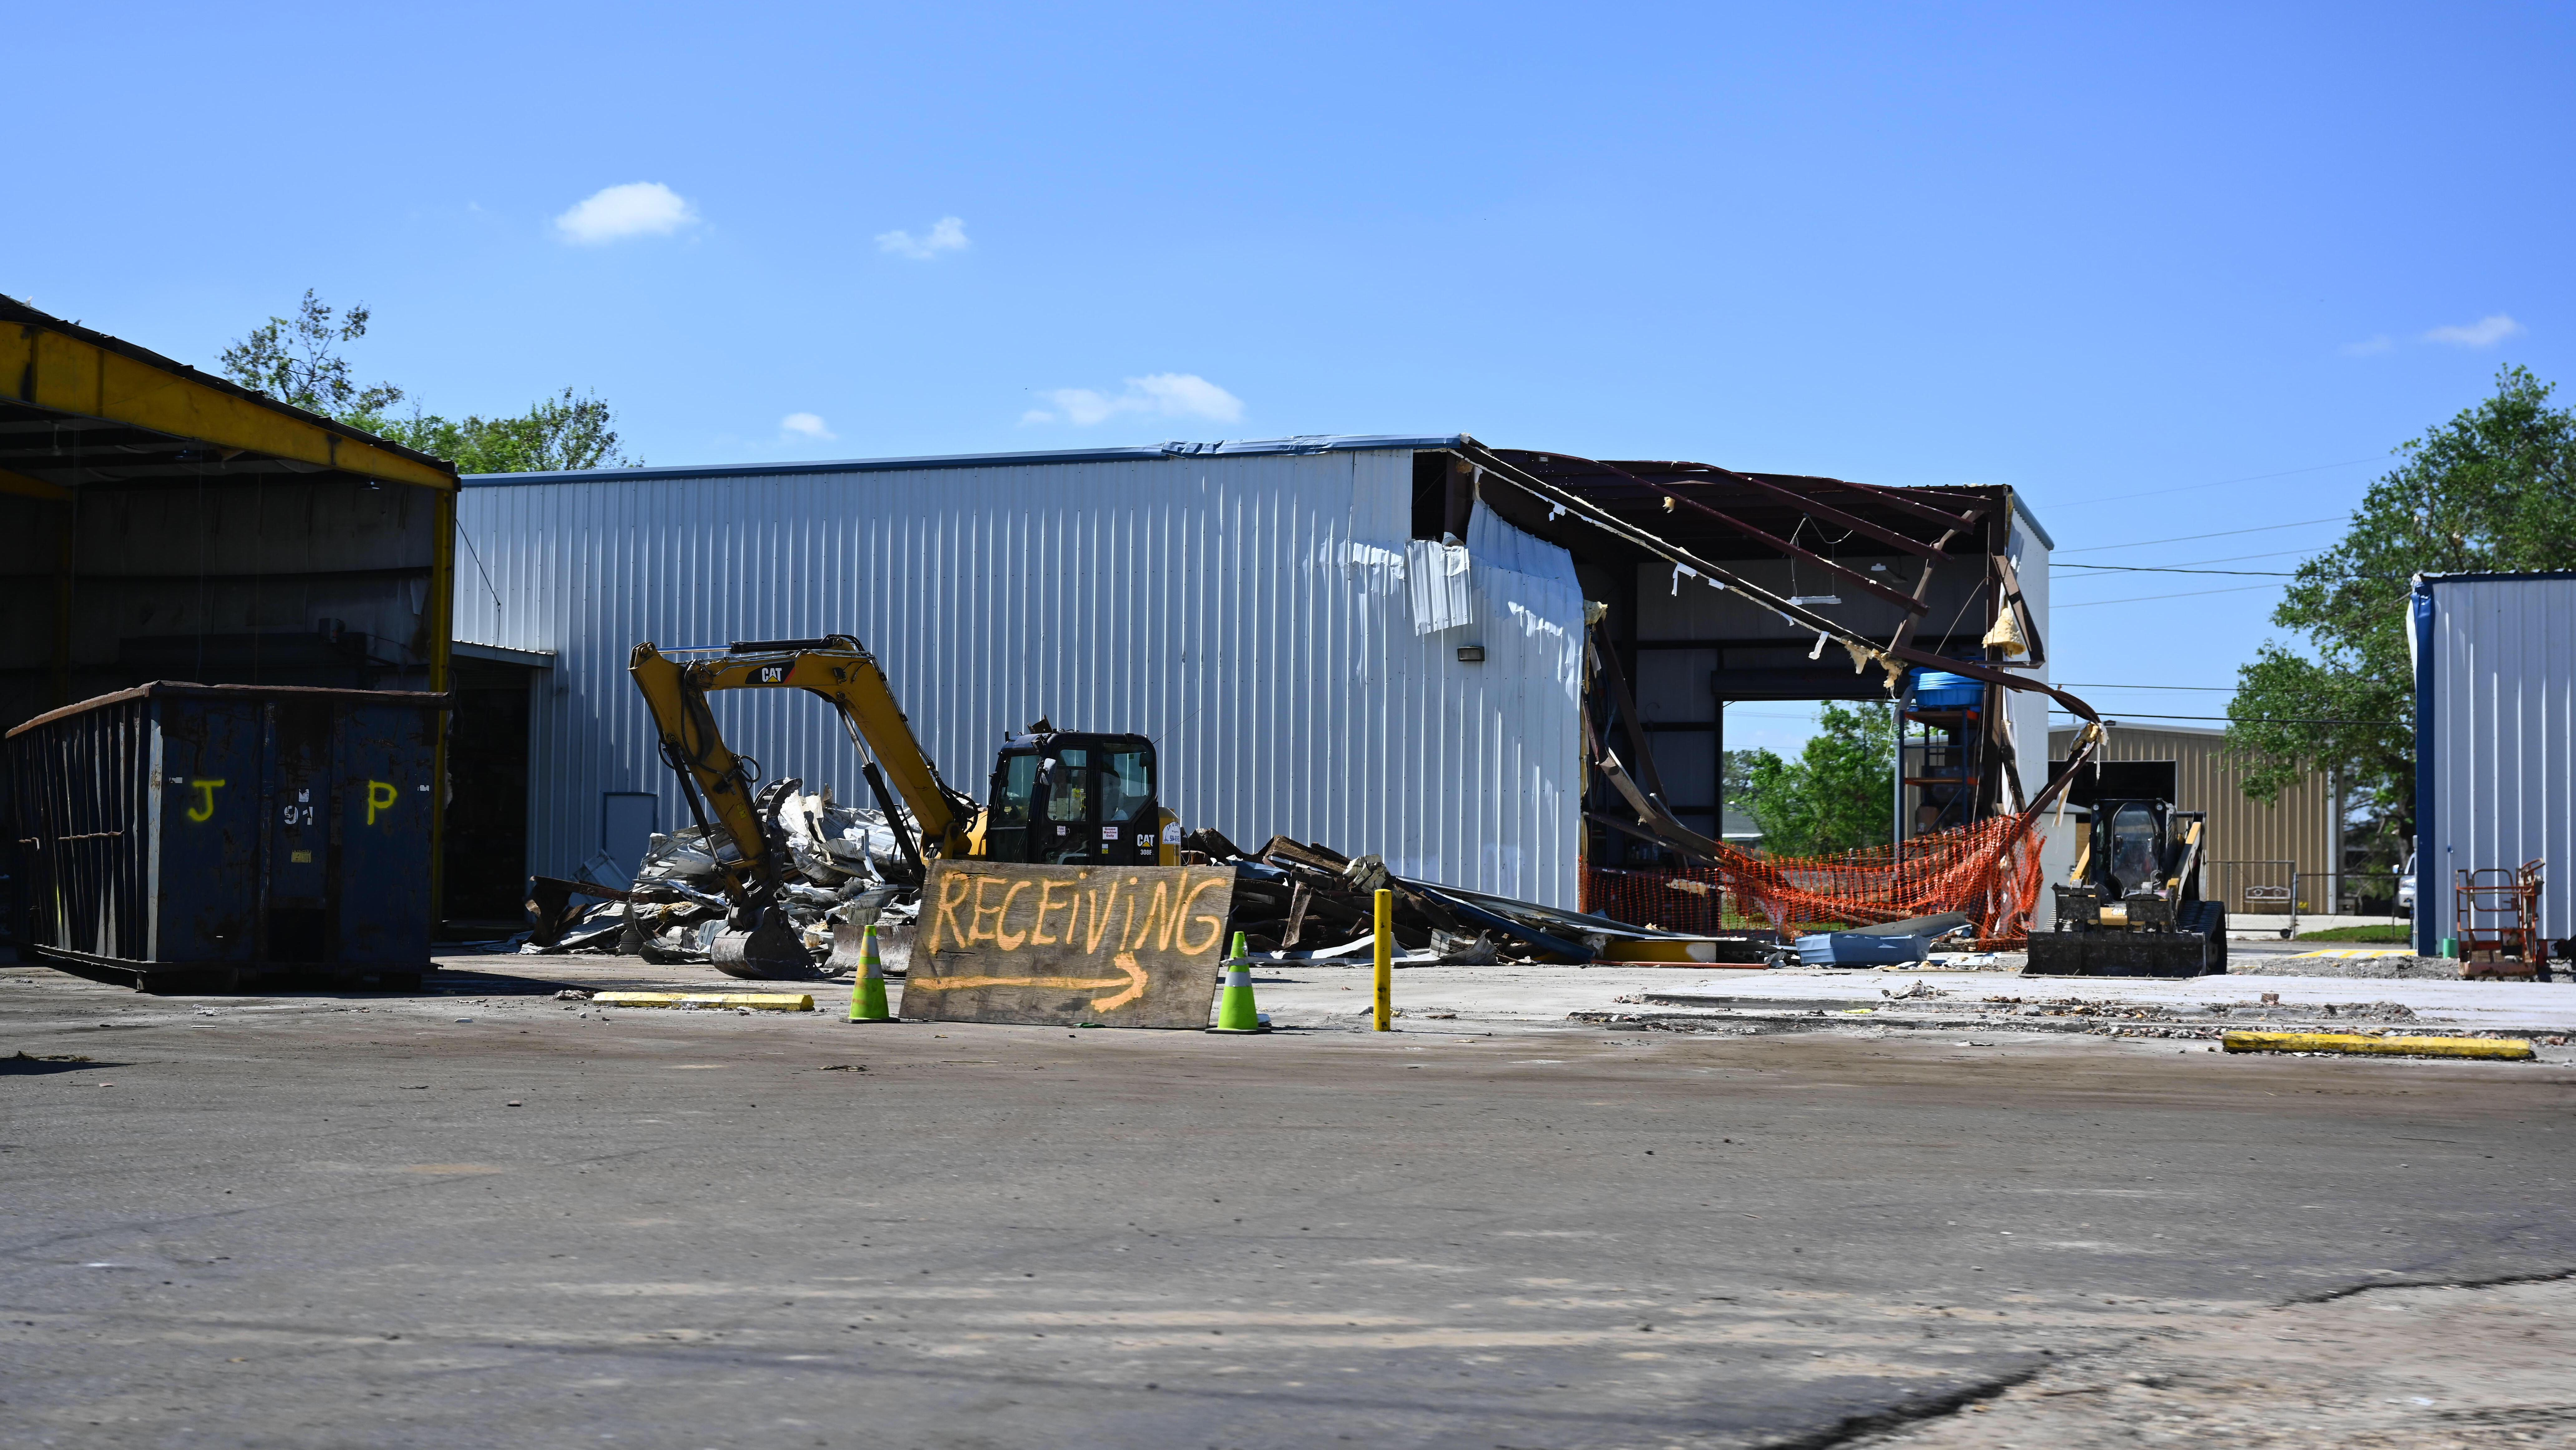destroyed: (451, 387, 2144, 1006)
